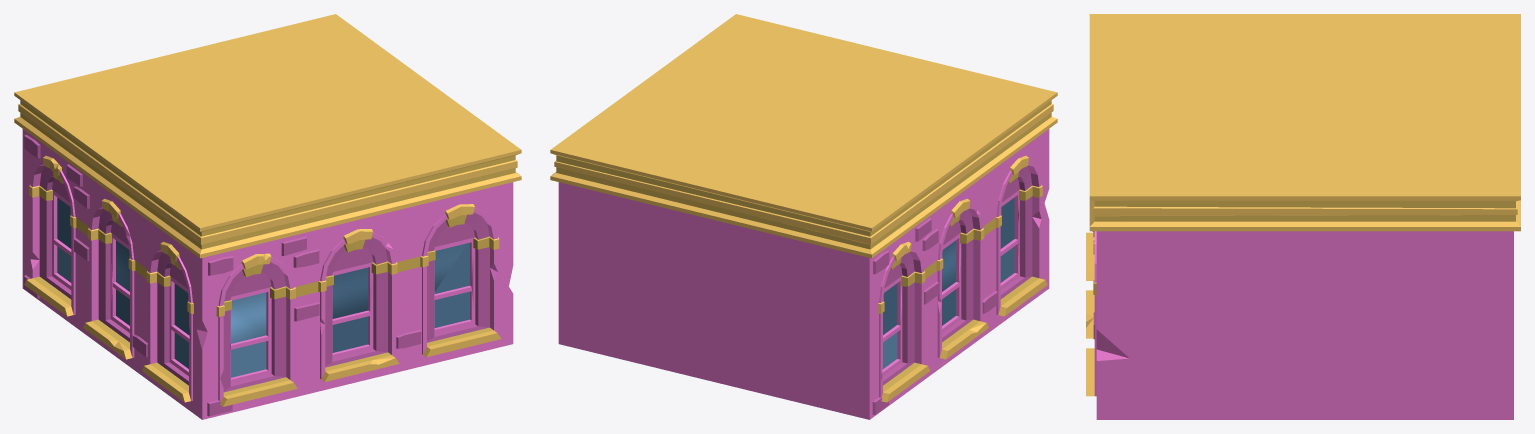
Rendered from Mod_Edificio_3.fbx.
3 renders of one model, left to right at view 1: azimuth 30°, elevation 25°; view 2: azimuth 150°, elevation 25°; view 3: azimuth 270°, elevation 25°, orthographic. The views are drawn at different scales.
Visible parts, largest first — view 1: Edificio_3; view 2: Edificio_3; view 3: Edificio_3.
Part boxes in pixels (bbox=[...]): Edificio_3: bbox=[14, 14, 521, 419]; Edificio_3: bbox=[550, 14, 1057, 419]; Edificio_3: bbox=[1086, 14, 1520, 419].
Size of the model in its own units: 5.21 by 3 by 5.21.
